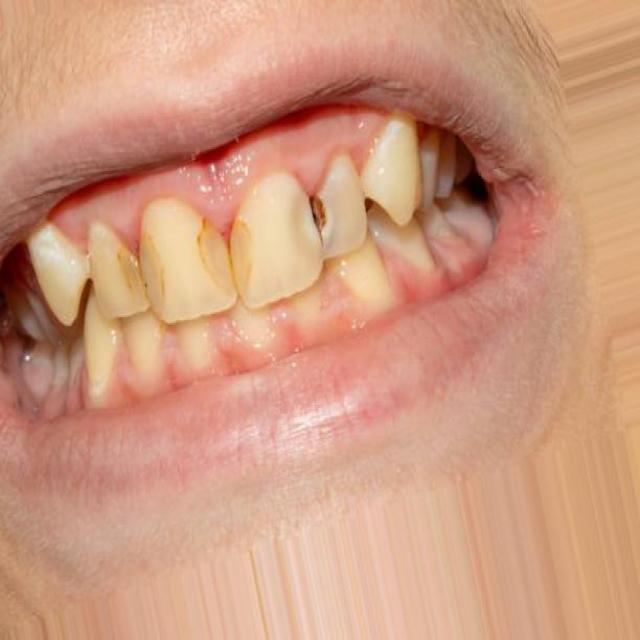caries: (188, 208, 266, 304), (110, 226, 172, 316), (291, 177, 343, 258)
